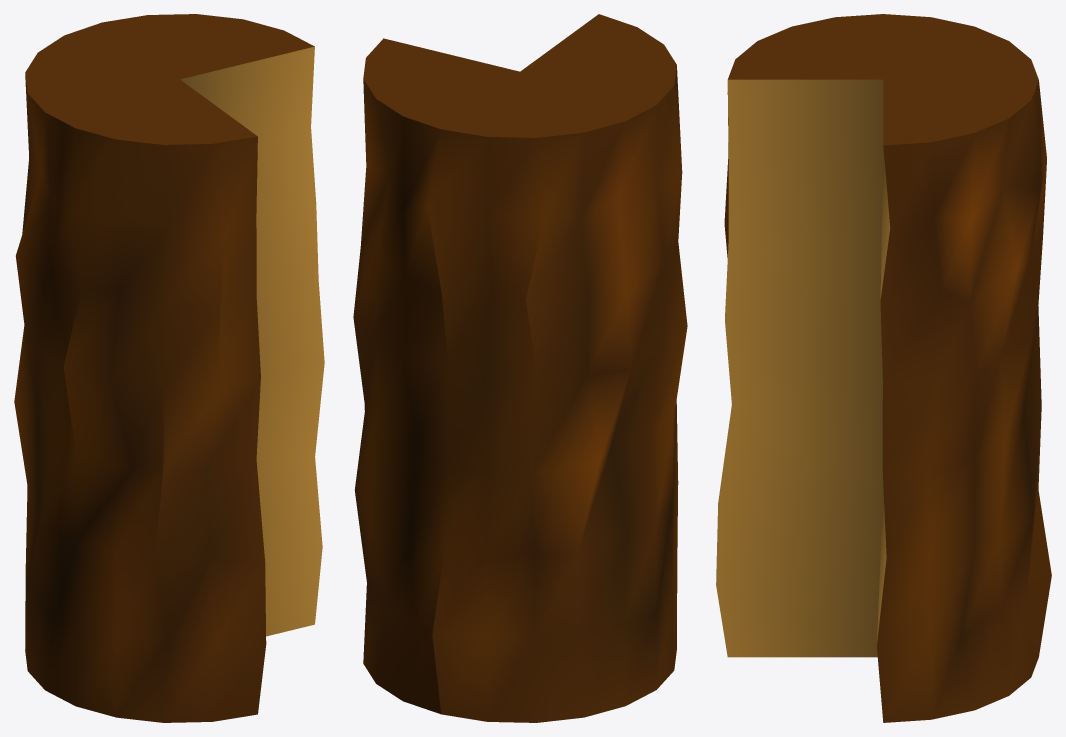
Rendered from TreeMiddle5.fbx.
3 renders of one model, left to right at view 1: azimuth 30°, elevation 25°; view 2: azimuth 150°, elevation 25°; view 3: azimuth 270°, elevation 25°, orthographic.
Visible parts, largest first — view 1: TreeMiddle5; view 2: TreeMiddle5; view 3: TreeMiddle5.
Boxes of the visible parts, bbox=[...] form: TreeMiddle5: bbox=[14, 14, 324, 722]; TreeMiddle5: bbox=[353, 14, 687, 722]; TreeMiddle5: bbox=[716, 14, 1051, 722].
Size of the model in its own units: 198 by 383 by 202.
